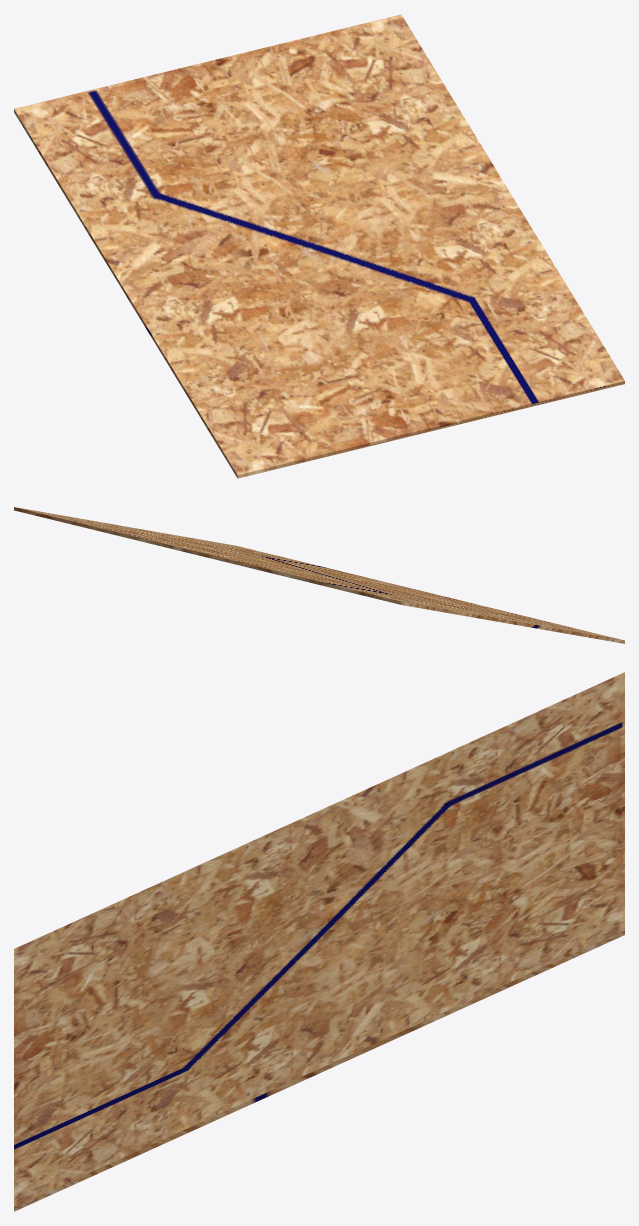
File: simple_elev_ramp_line_better_quality.dae
3 renders of one model, top to bottom at view 1: azimuth 30°, elevation 25°; view 2: azimuth 150°, elevation 25°; view 3: azimuth 270°, elevation 25°, orthographic. The views are drawn at different scales.
Visible parts, largest first — view 1: Cube_001; view 2: Cube_001; view 3: Cube_001.
Boxes of the visible parts, x1,y1,x2,y2 form: Cube_001: [14, 14, 624, 478]; Cube_001: [14, 507, 624, 643]; Cube_001: [14, 672, 624, 1211].
Bounding box in the file's own units: 2.36 × 2.36 × 1.2.
Materials: 1 (1 with a texture image).
